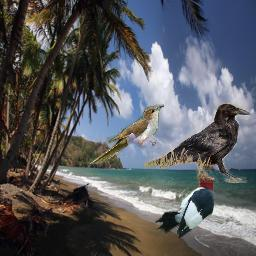Crow: (144, 103, 251, 183)
Cuckoo: (89, 104, 164, 164)
Woodpecker: (154, 170, 214, 239)
